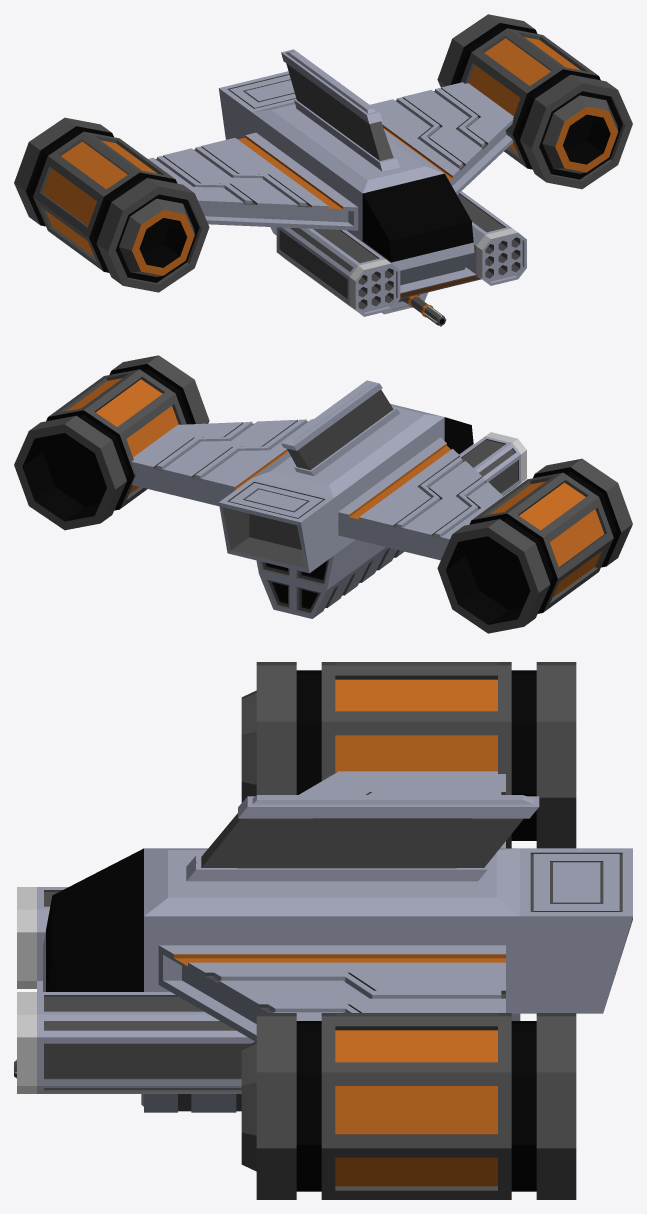
The model's file is Spaceship14_4.fbx.
The picture shows the model from 3 angles, top to bottom: view 1: azimuth 30°, elevation 25°; view 2: azimuth 150°, elevation 25°; view 3: azimuth 270°, elevation 25°; orthographic projection. The views are drawn at different scales.
Visible parts, largest first — view 1: Spaceship14_4; view 2: Spaceship14_4; view 3: Spaceship14_4.
Part boxes in pixels (<box>): Spaceship14_4: <box>14,14,632,326</box>; Spaceship14_4: <box>14,355,632,633</box>; Spaceship14_4: <box>14,662,632,1199</box>.
Size of the model in its own units: 3717 by 1192 by 2236.
